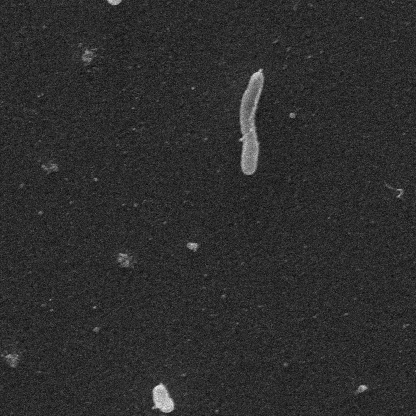filament: (237, 68, 267, 177)
regular: (95, 0, 126, 6)
spheroplast: (151, 382, 174, 412)
